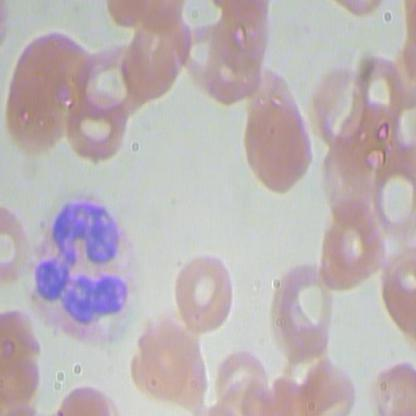RBC: (240, 67, 316, 193), (263, 250, 336, 364), (166, 245, 241, 340), (68, 29, 143, 121), (120, 10, 194, 102), (303, 49, 367, 151), (325, 185, 389, 282), (58, 85, 130, 164), (132, 316, 203, 395), (207, 343, 278, 415), (356, 42, 415, 125), (373, 139, 415, 244), (211, 348, 276, 414), (296, 350, 361, 415)
WBC: (20, 180, 155, 352)
